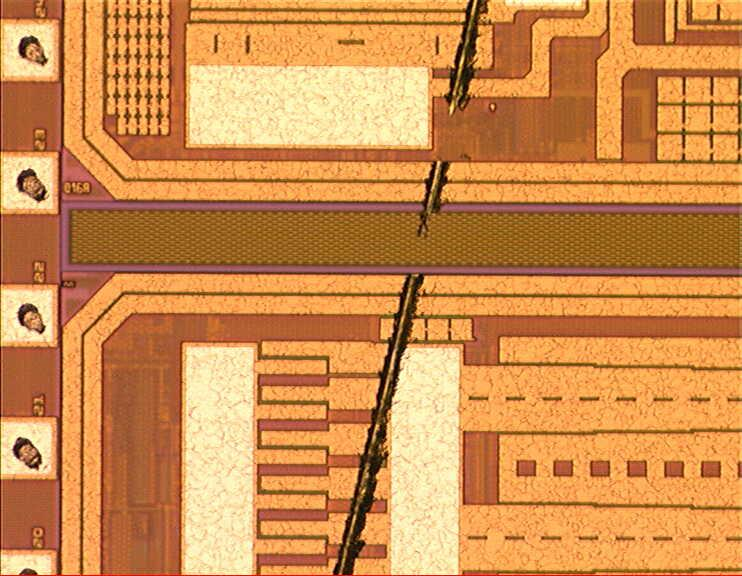SCRATCH: (330, 1, 494, 576)
